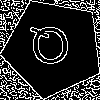Q: (28, 23, 73, 75)
